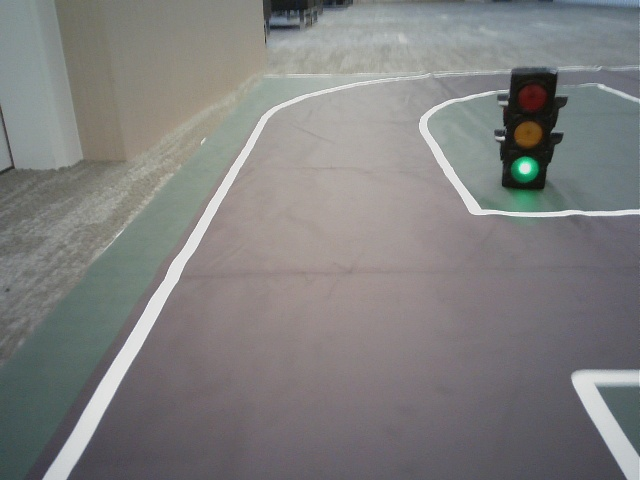green: (508, 74, 548, 188)
